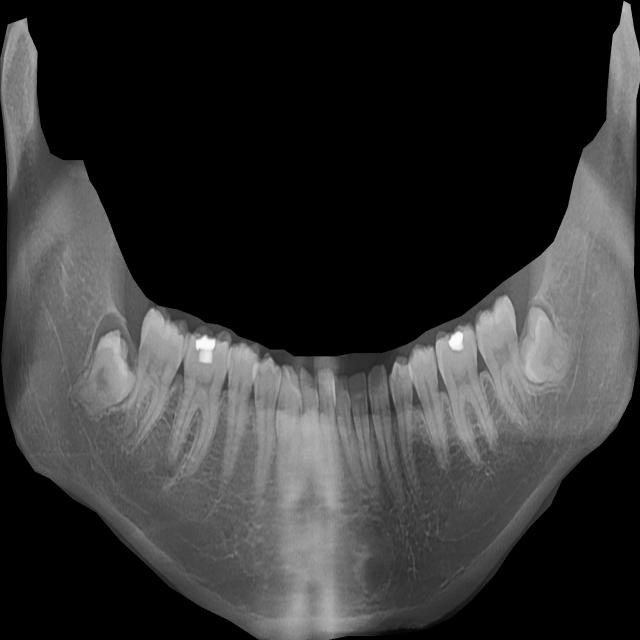mandibula: (0, 1, 640, 640)
